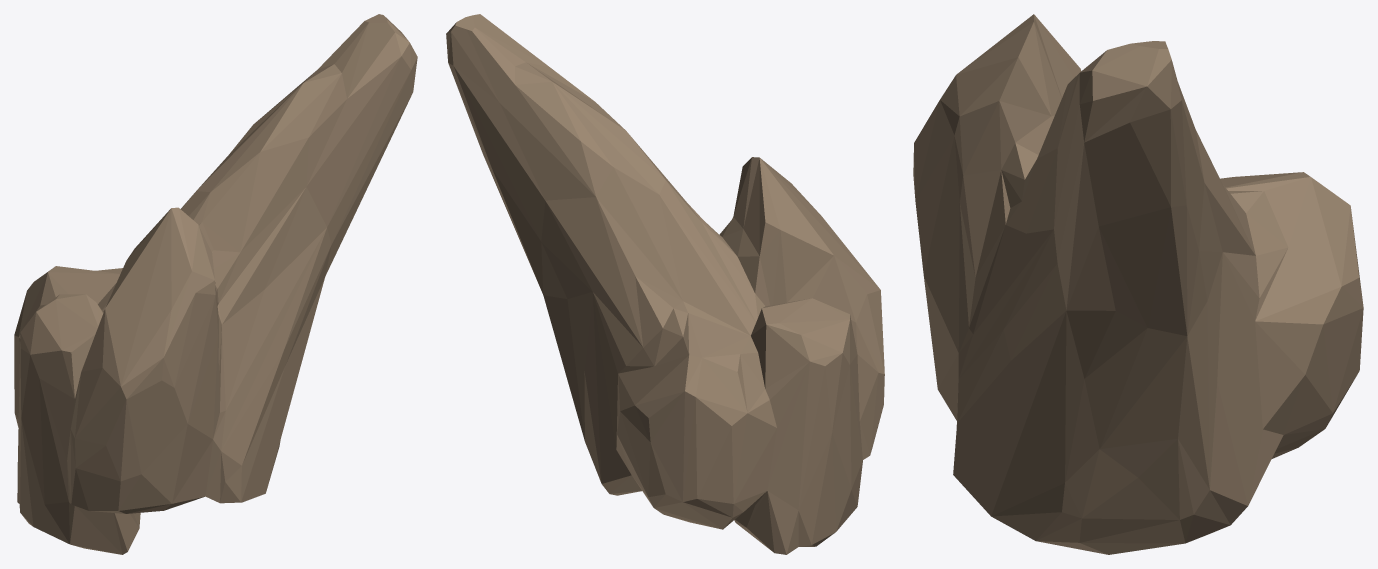
The model's file is SM_Env_Rock_Spikes_01.fbx.
3 renders of one model, left to right at view 1: azimuth 30°, elevation 25°; view 2: azimuth 150°, elevation 25°; view 3: azimuth 270°, elevation 25°, orthographic. The views are drawn at different scales.
Parts seen in each view (by area): view 1: SM_Env_Rock_Spikes_01; view 2: SM_Env_Rock_Spikes_01; view 3: SM_Env_Rock_Spikes_01.
Boxes of the visible parts, left/top/right/bottom form: SM_Env_Rock_Spikes_01: left=14, top=14, right=417, bottom=554; SM_Env_Rock_Spikes_01: left=446, top=14, right=884, bottom=554; SM_Env_Rock_Spikes_01: left=913, top=14, right=1363, bottom=554.
Bounding box in the file's own units: 2093 × 2300 × 1431.
